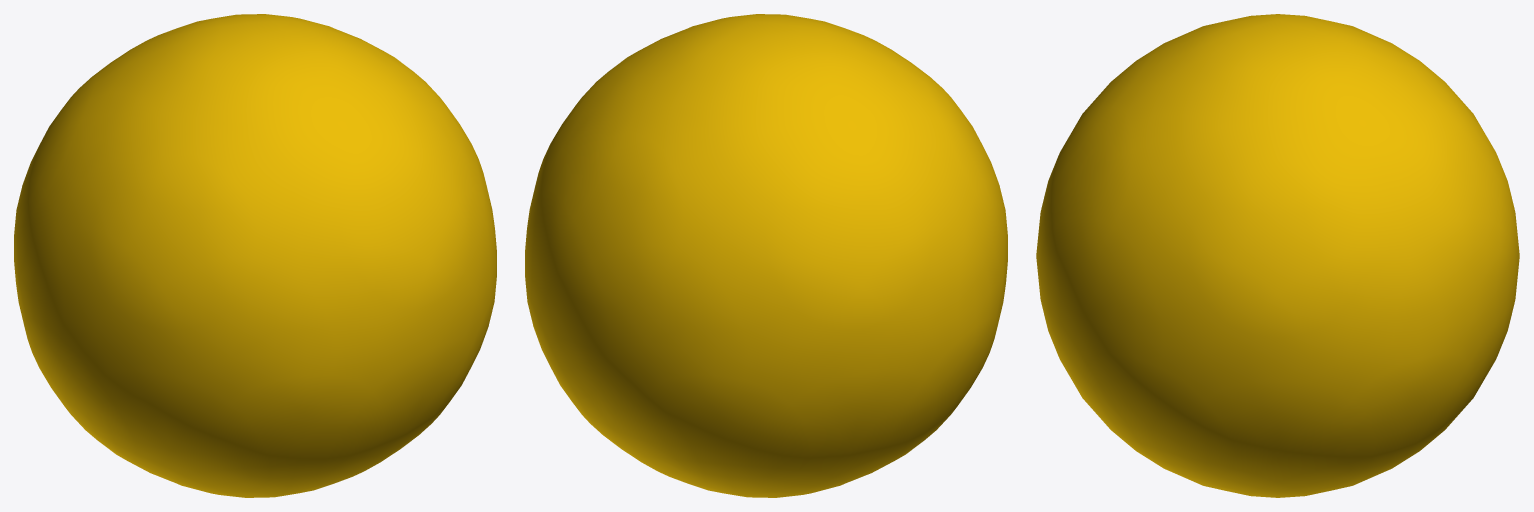
Rendered from ball_yellow.fbx.
3 views of the same model, side by side, from view 1: azimuth 30°, elevation 25°; view 2: azimuth 150°, elevation 25°; view 3: azimuth 270°, elevation 25° (orthographic).
Parts seen in each view (by area): view 1: ball_yellow; view 2: ball_yellow; view 3: ball_yellow.
Boxes of the visible parts, left/top/right/bottom form: ball_yellow: left=14, top=14, right=496, bottom=497; ball_yellow: left=525, top=14, right=1007, bottom=497; ball_yellow: left=1036, top=14, right=1519, bottom=497.
Bounding box in the file's own units: 9.1 × 9.16 × 9.11.
